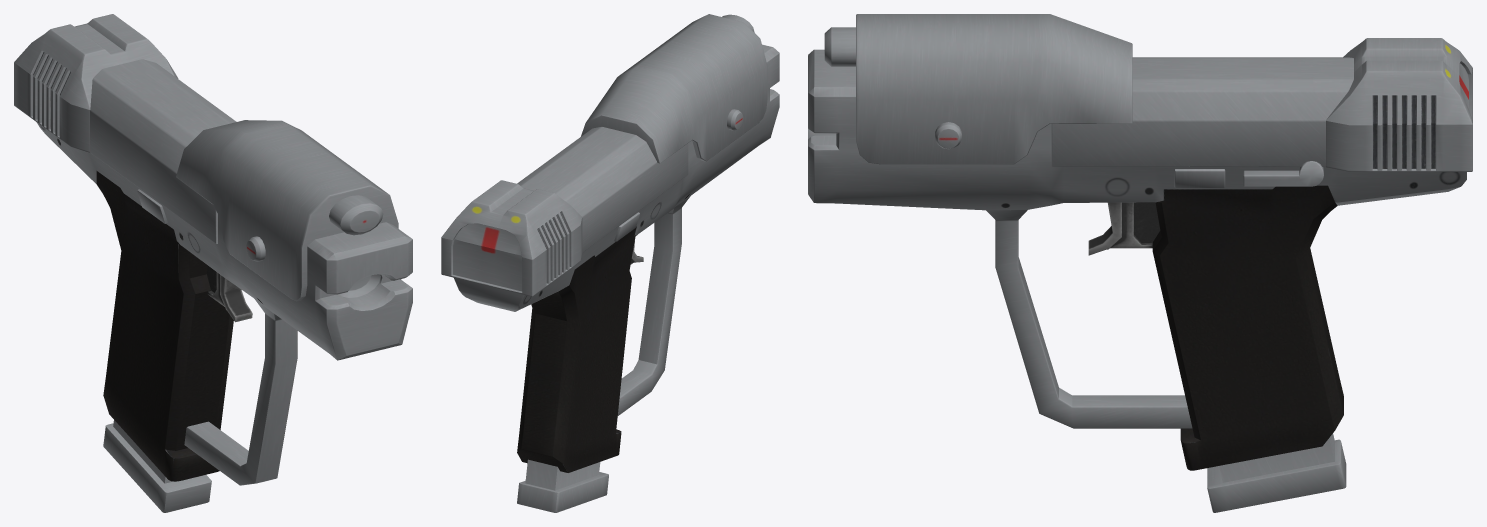
File: pistol.glb
3 renders of one model, left to right at view 1: azimuth 30°, elevation 25°; view 2: azimuth 150°, elevation 25°; view 3: azimuth 270°, elevation 25°, orthographic. The views are drawn at different scales.
Visible parts, largest first — view 1: Magnum_1_Mesh.002; view 2: Magnum_1_Mesh.002; view 3: Magnum_1_Mesh.002.
Boxes of the visible parts, x1,y1,x2,y2 form: Magnum_1_Mesh.002: (14,14,412,512); Magnum_1_Mesh.002: (441,14,779,512); Magnum_1_Mesh.002: (808,14,1472,512).
Size of the model in its own units: 0.0506 by 0.1857 by 0.235.
Materials: 1 (1 with a texture image).
